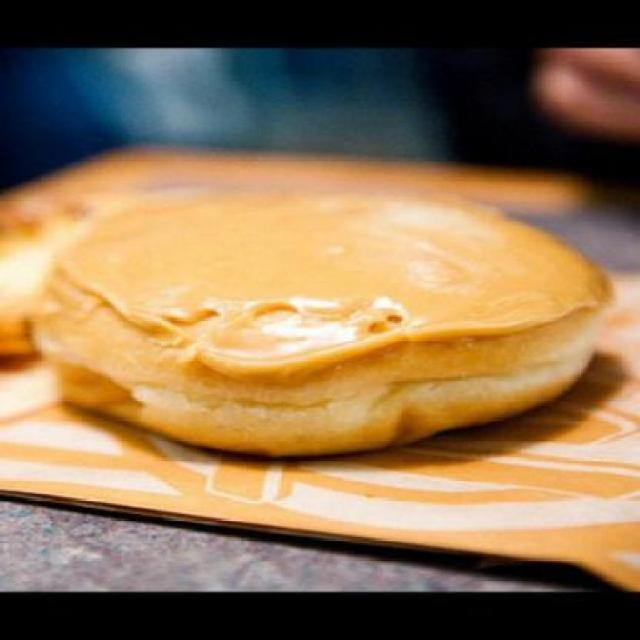Donuts: (56, 160, 629, 546)
